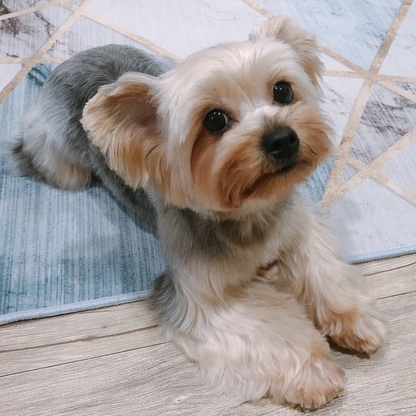yokshine: (20, 15, 390, 404)
